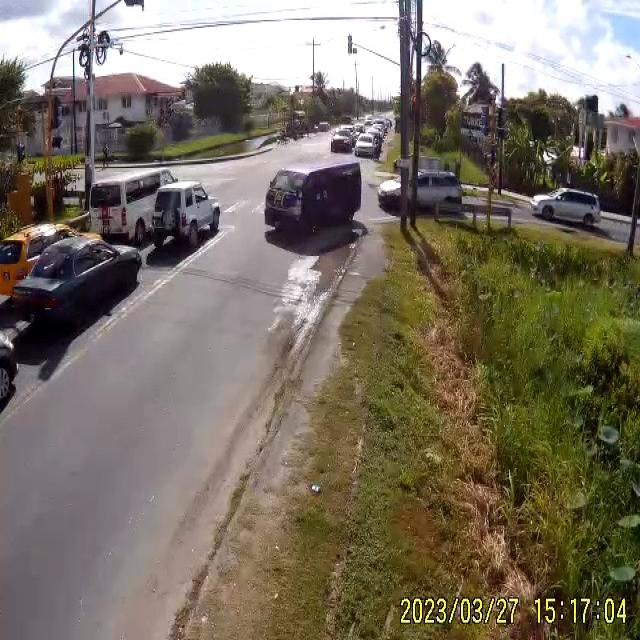car: (5, 232, 142, 341), (263, 158, 365, 232), (377, 171, 464, 216), (534, 190, 602, 228), (354, 134, 382, 161), (331, 132, 354, 154)
truck: (149, 182, 224, 252)
